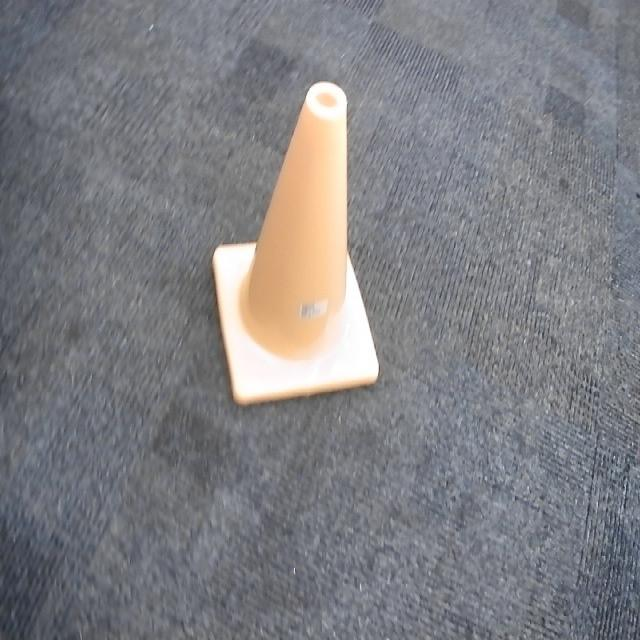cone: (210, 80, 380, 406)
